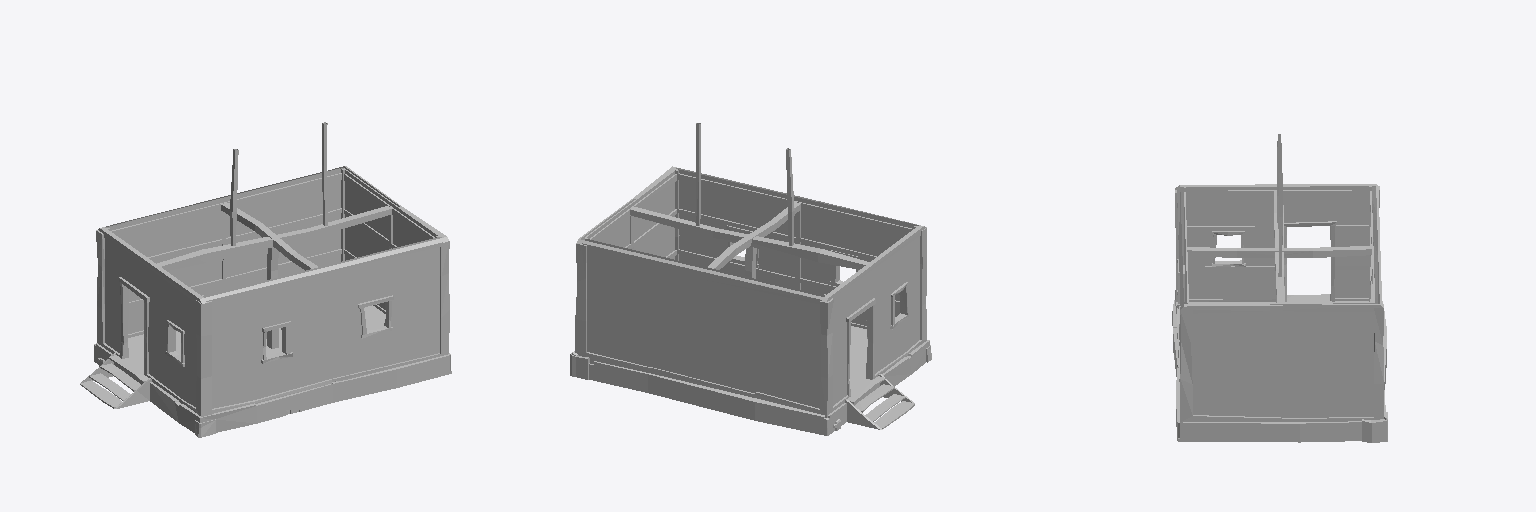
The model's file is 004_WoodenC01New.obj.
3 renders of one model, left to right at view 1: azimuth 30°, elevation 25°; view 2: azimuth 150°, elevation 25°; view 3: azimuth 270°, elevation 25°, orthographic.
Parts seen in each view (by area): view 1: WoodCabin; view 2: WoodCabin; view 3: WoodCabin.
Boxes of the visible parts, <box> form: WoodCabin: <box>80,122,451,437</box>; WoodCabin: <box>570,123,931,435</box>; WoodCabin: <box>1172,134,1387,442</box>.
Size of the model in its own units: 110 by 83.32 by 70.76.